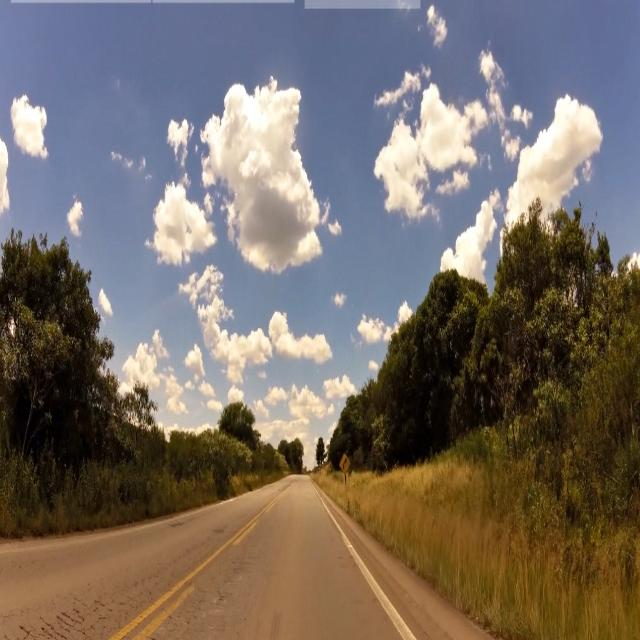A-2b: (338, 451, 351, 475)
